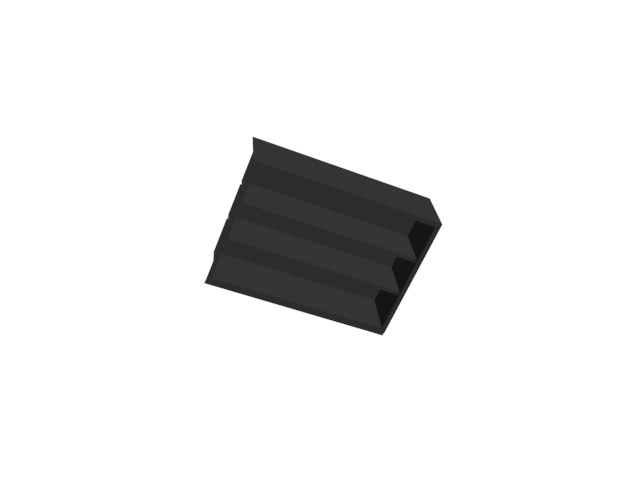bookcase: (201, 137, 448, 336)
